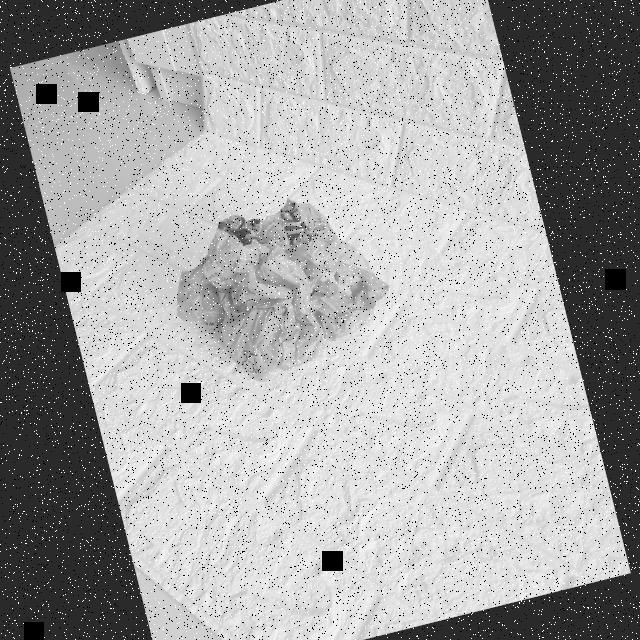plastic_bag: (165, 182, 392, 392)
